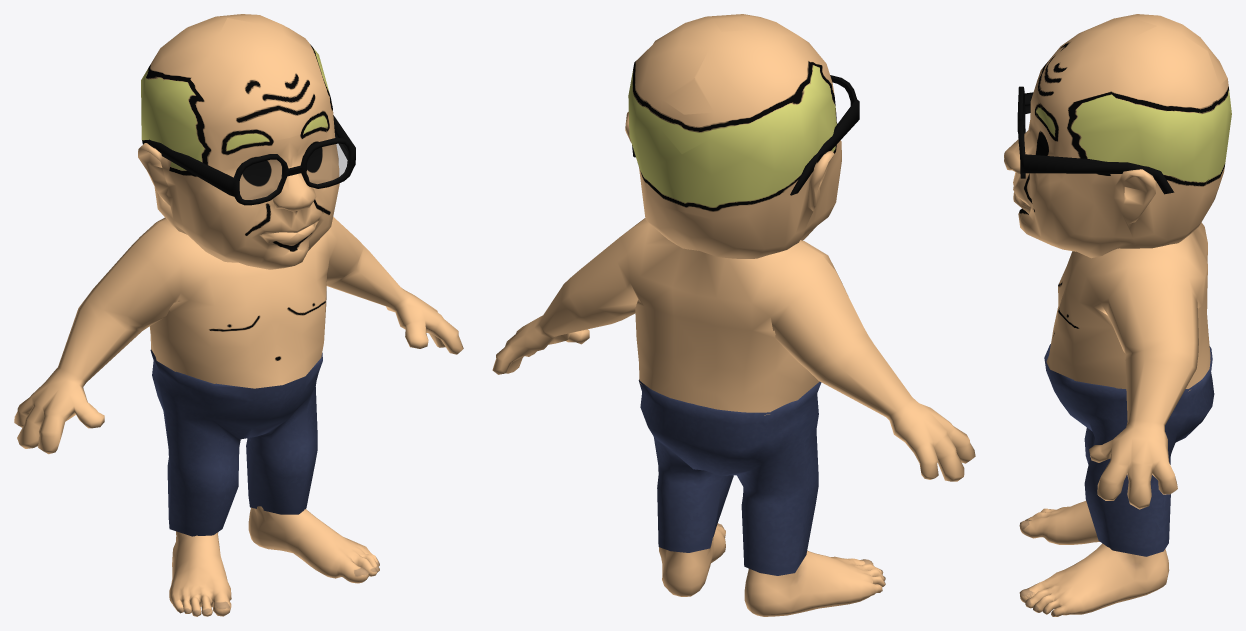
File: vovo.obj
The picture shows the model from 3 angles, left to right: view 1: azimuth 30°, elevation 25°; view 2: azimuth 150°, elevation 25°; view 3: azimuth 270°, elevation 25°; orthographic projection. The views are drawn at different scales.
Parts seen in each view (by area): view 1: Rak; view 2: Rak; view 3: Rak.
Part boxes in pixels (left/top/right/bottom): Rak: left=14, top=14, right=463, bottom=616; Rak: left=492, top=14, right=975, bottom=616; Rak: left=1004, top=14, right=1231, bottom=616.
Size of the model in its own units: 174 by 206 by 78.04.
Materials: 5 (4 with a texture image).
